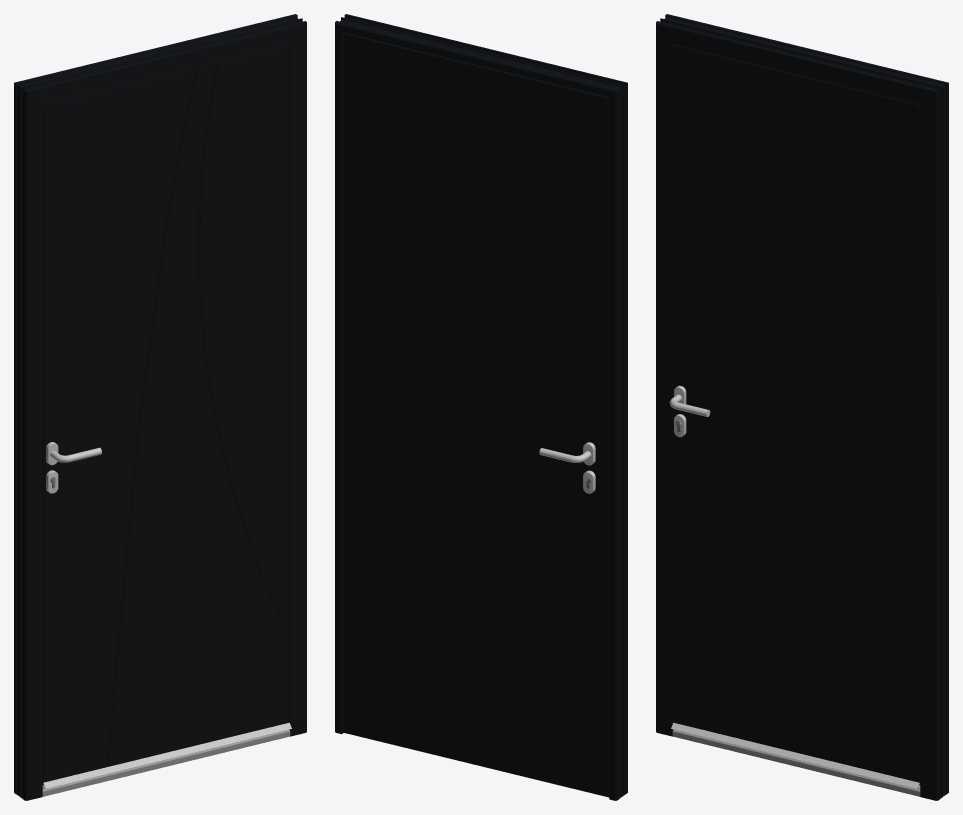
The picture shows the model from 3 angles, left to right: view 1: azimuth 30°, elevation 25°; view 2: azimuth 150°, elevation 25°; view 3: azimuth 330°, elevation 25°; orthographic projection.
Visible parts, largest first — view 1: bloco_49, aroFixo, monobloco, aroMovel, rodapé, escovas, puxador001; view 2: bloco_49, aroFixo, monobloco, aroMovel, puxador; view 3: bloco_49, aroFixo, monobloco, aroMovel, rodapé, escovas, puxador001.
Part boxes in pixels (x1,y1,x2,y2): bloco_49: (44, 46, 288, 782); aroFixo: (14, 14, 306, 800); monobloco: (44, 46, 288, 781); aroMovel: (42, 44, 289, 784); rodapé: (42, 729, 290, 796); escovas: (42, 722, 291, 788); puxador001: (46, 442, 101, 493); bloco_49: (343, 34, 606, 796); aroFixo: (335, 14, 627, 800); monobloco: (344, 53, 607, 795); aroMovel: (343, 32, 609, 796); puxador: (539, 442, 595, 493); bloco_49: (674, 46, 918, 782); aroFixo: (656, 14, 948, 800); monobloco: (674, 46, 918, 738); aroMovel: (673, 44, 920, 784); rodapé: (672, 729, 920, 796); escovas: (671, 722, 920, 788); puxador001: (669, 385, 710, 437).
Size of the model in its own units: 900 by 2165 by 209.
Materials: 7 (2 with a texture image).
